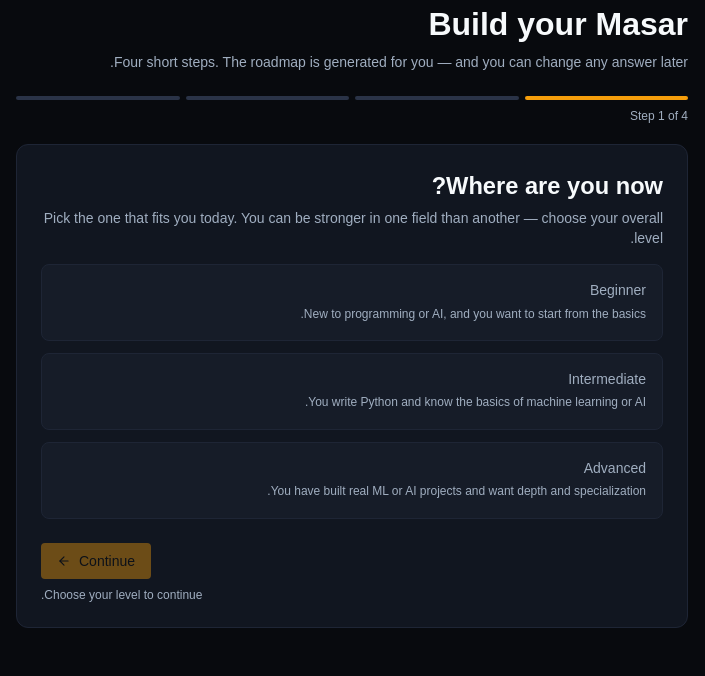
step 3 — what is your career goal? › offers the five career goals and explains that goal and field are separate
The image size is (705, 676).
Click the radio button labelled "Intermediate" at x=607, y=379, box 41,353 -> 663,430
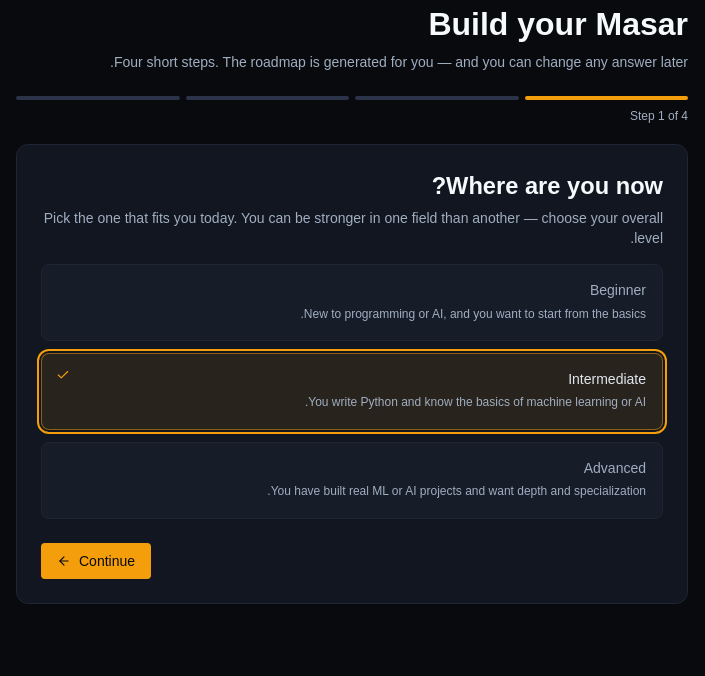
Click the button "Continue" at x=96, y=561, box 41,543 -> 151,579
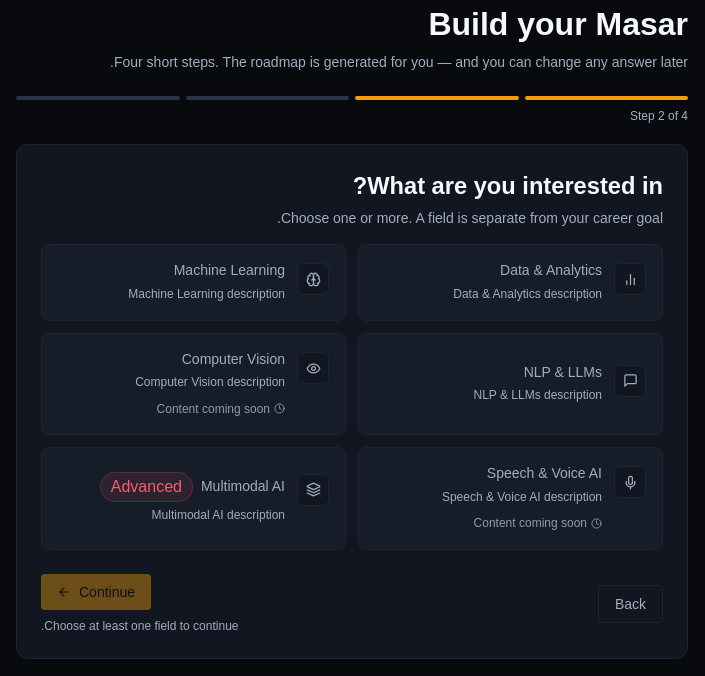
Click the checkbox labelled "NLP & LLMs NLP & LLMs description" at x=630, y=381, box 358,333 -> 663,436
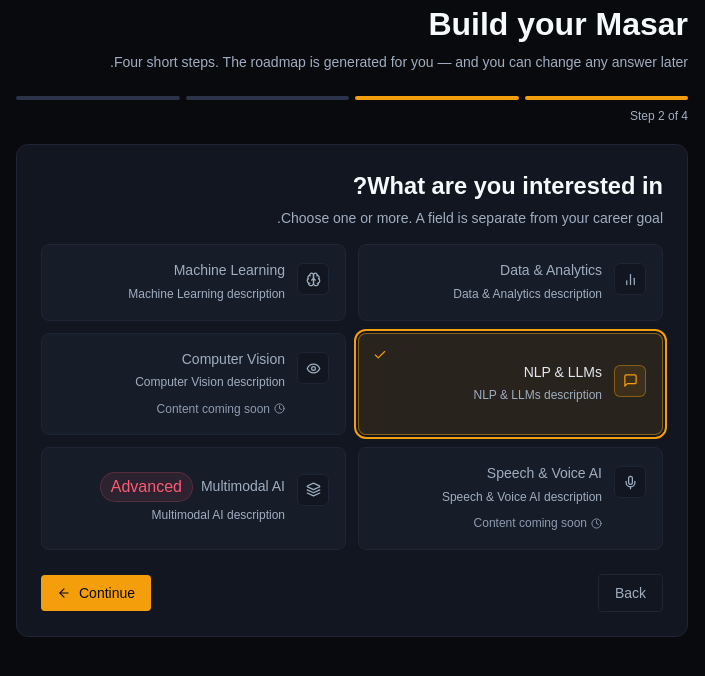
Click the button "Continue" at x=96, y=593, box 41,575 -> 151,611
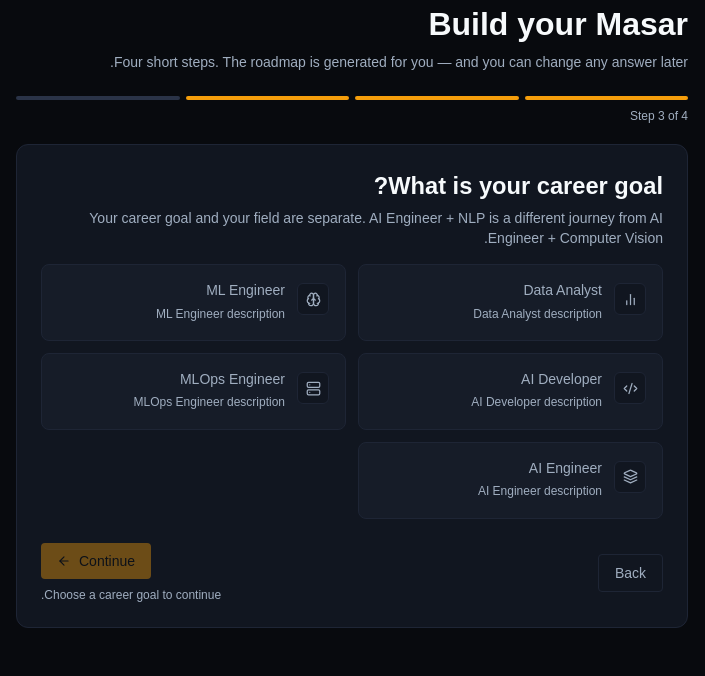
Check: the number of radio buttons is 5, box 358,264 -> 663,341; 41,264 -> 346,341; 358,353 -> 663,430; 41,353 -> 346,430; 358,442 -> 663,519
Check: the radio button labelled "Data Analyst Data Analyst description" is shown, box 358,264 -> 663,341
Check: the radio button labelled "ML Engineer ML Engineer description" is shown, box 41,264 -> 346,341
